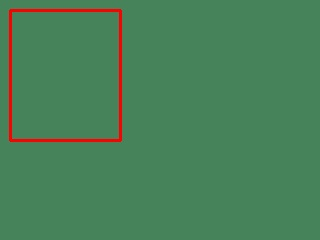ganoderma: (10, 10, 120, 140)
